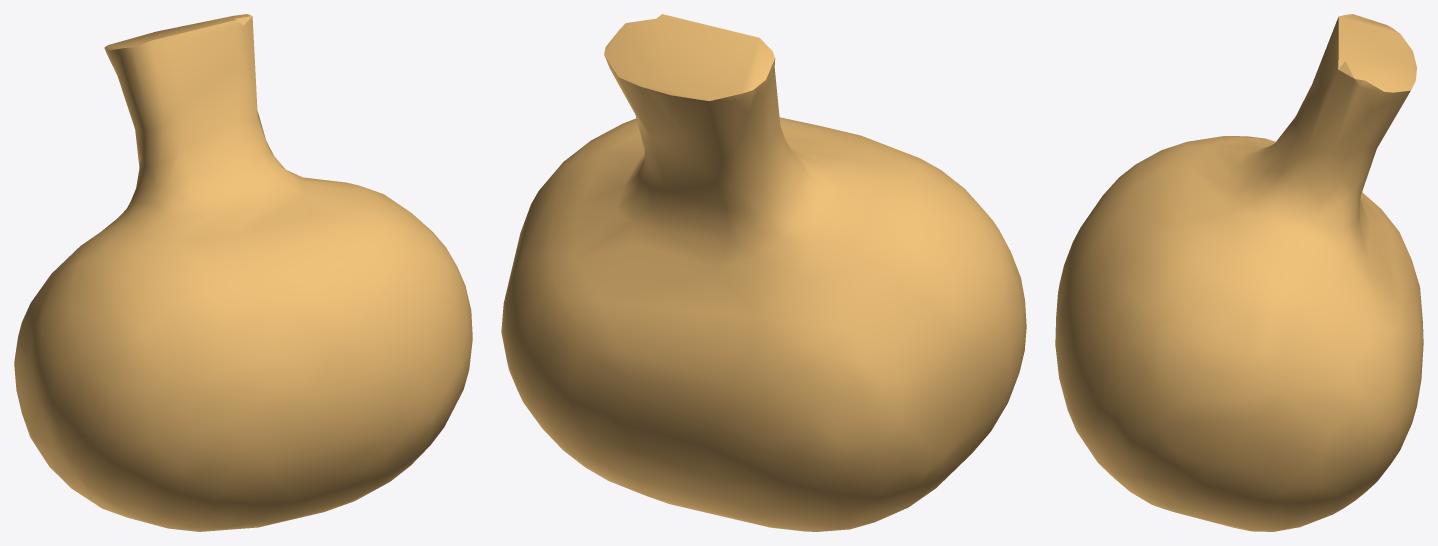
File: hipofise.glb
3 renders of one model, left to right at view 1: azimuth 30°, elevation 25°; view 2: azimuth 150°, elevation 25°; view 3: azimuth 270°, elevation 25°, orthographic. The views are drawn at different scales.
Visible parts, largest first — view 1: hipofise; view 2: hipofise; view 3: hipofise.
Boxes of the visible parts, x1,y1,x2,y2 form: hipofise: [14, 14, 472, 531]; hipofise: [501, 14, 1026, 531]; hipofise: [1055, 14, 1423, 531].
Bounding box in the file's own units: 0.0123 × 0.013 × 0.00946.
